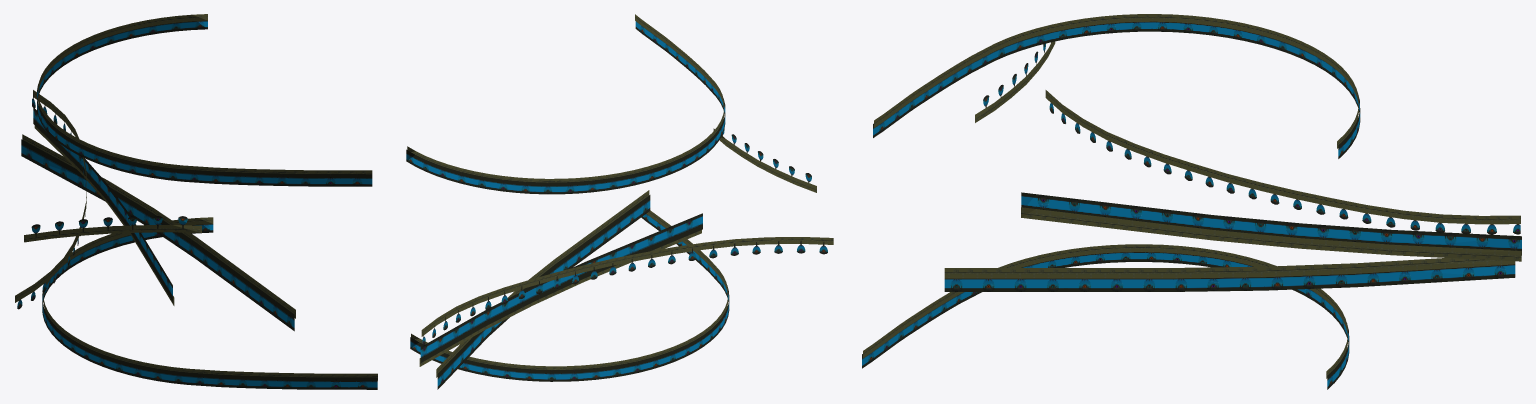
Rendered from stg610_MotPotFar_24.obj.
The picture shows the model from 3 angles, left to right: view 1: azimuth 30°, elevation 25°; view 2: azimuth 150°, elevation 25°; view 3: azimuth 270°, elevation 25°; orthographic projection. The views are drawn at different scales.
Visible parts, largest first — view 1: polygon8, polygon2, polygon0, polygon9, polygon3, polygon6, polygon1, polygon11, polygon5, polygon10, polygon7, polygon4; view 2: polygon8, polygon2, polygon6, polygon5, polygon0, polygon9, polygon3, polygon4, polygon7, polygon1, polygon11; view 3: polygon0, polygon6, polygon1, polygon7, polygon8, polygon5, polygon9, polygon2, polygon3, polygon4, polygon11.
Part boxes in pixels (x1,y1,x2,y2): polygon8: (37, 20, 372, 186); polygon2: (42, 224, 377, 389); polygon0: (21, 139, 294, 331); polygon9: (38, 14, 372, 174); polygon3: (43, 217, 377, 380); polygon6: (33, 108, 172, 301); polygon1: (22, 134, 295, 318); polygon11: (24, 225, 201, 242); polygon5: (15, 90, 86, 302); polygon10: (31, 216, 187, 237); polygon7: (34, 125, 174, 305); polygon4: (17, 94, 85, 309); polygon8: (406, 21, 725, 194); polygon2: (410, 214, 729, 381); polygon6: (420, 213, 702, 362); polygon5: (421, 237, 833, 336); polygon0: (437, 195, 650, 389); polygon9: (407, 14, 724, 182); polygon3: (411, 210, 728, 369); polygon4: (422, 240, 827, 345); polygon7: (419, 230, 701, 366); polygon1: (436, 190, 649, 377); polygon11: (713, 128, 816, 192); polygon0: (944, 264, 1515, 291); polygon6: (1021, 192, 1521, 255); polygon1: (944, 258, 1515, 278); polygon7: (1021, 207, 1521, 261); polygon8: (873, 21, 1360, 158); polygon5: (1045, 90, 1520, 224); polygon9: (874, 14, 1358, 148); polygon2: (862, 252, 1349, 389); polygon3: (863, 244, 1347, 378); polygon4: (1049, 103, 1520, 234); polygon11: (975, 41, 1055, 122).
Bounding box in the file's own units: 1593 × 1023 × 2466.
3 materials, 3 textured.
